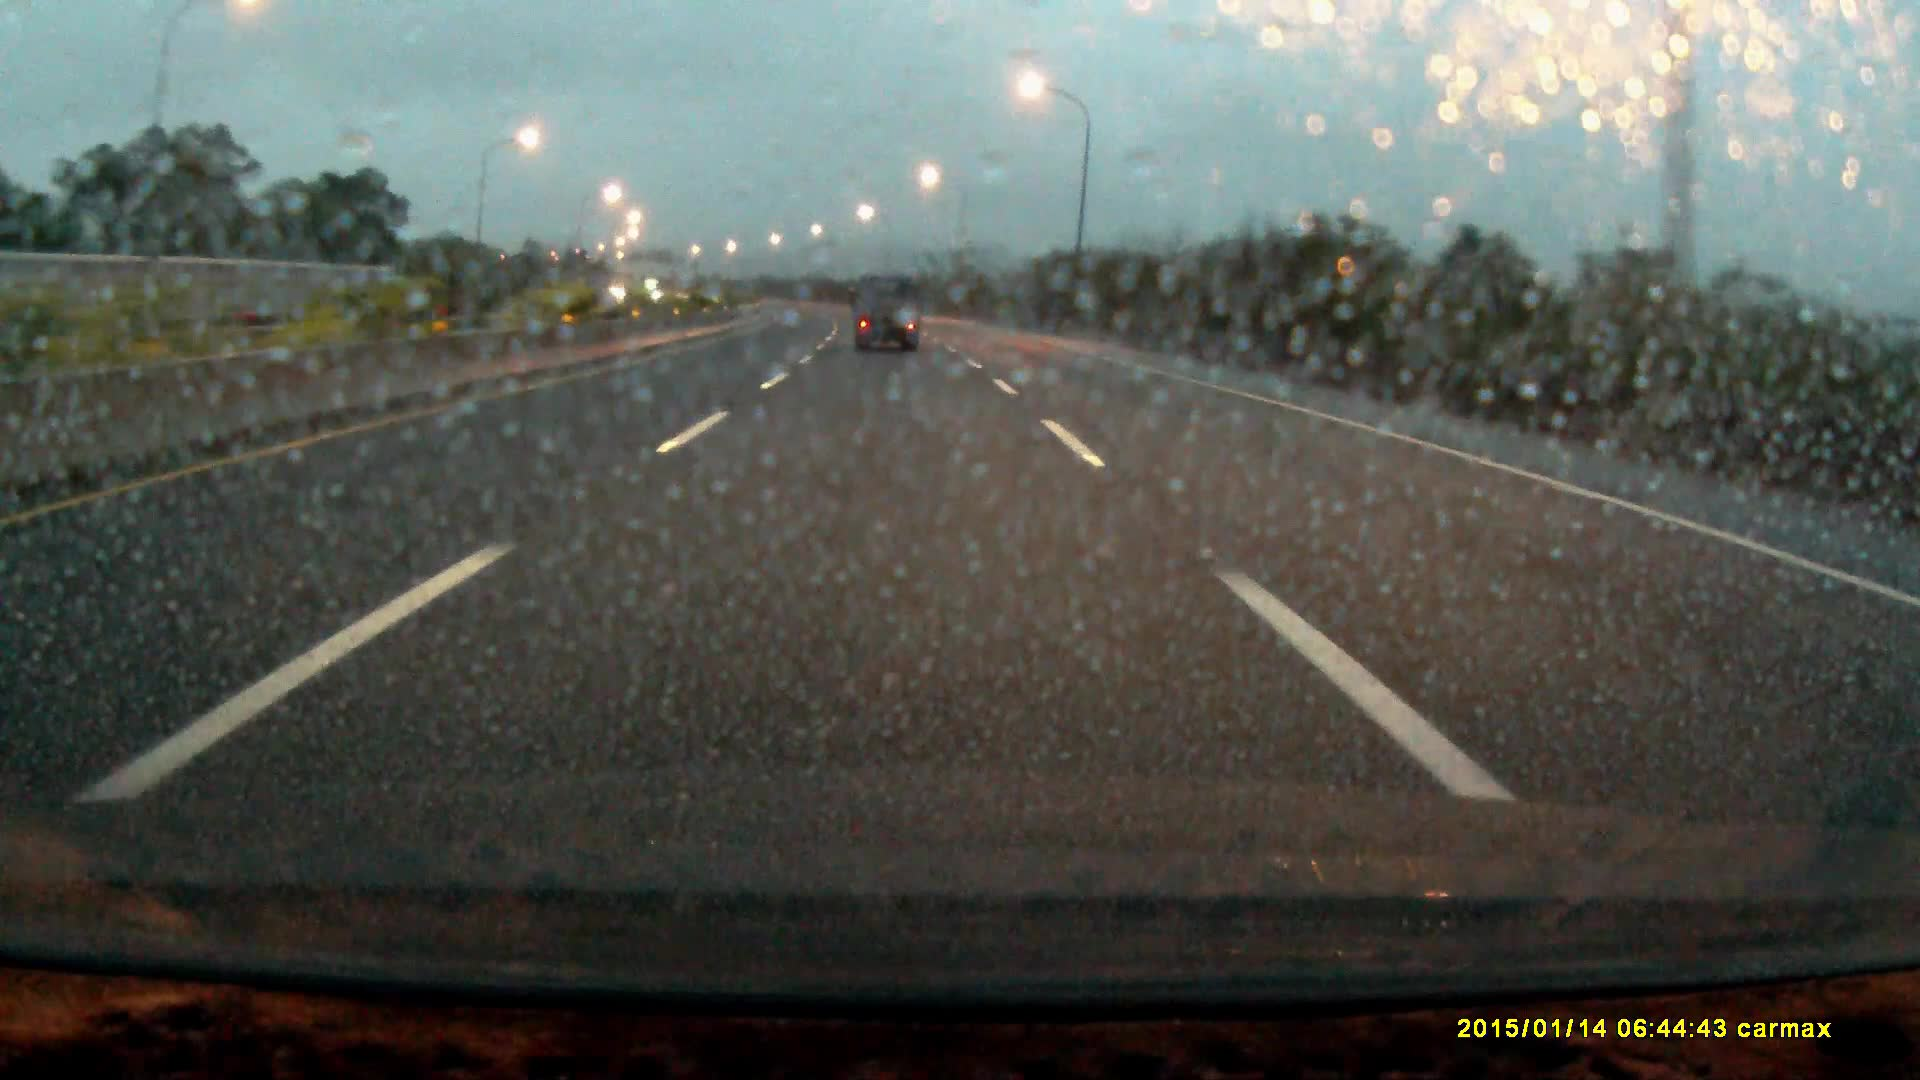vehicle: (852, 273, 920, 353)
